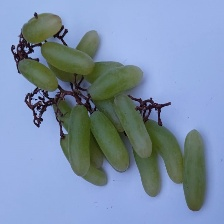grapes: (34, 43, 192, 215)
